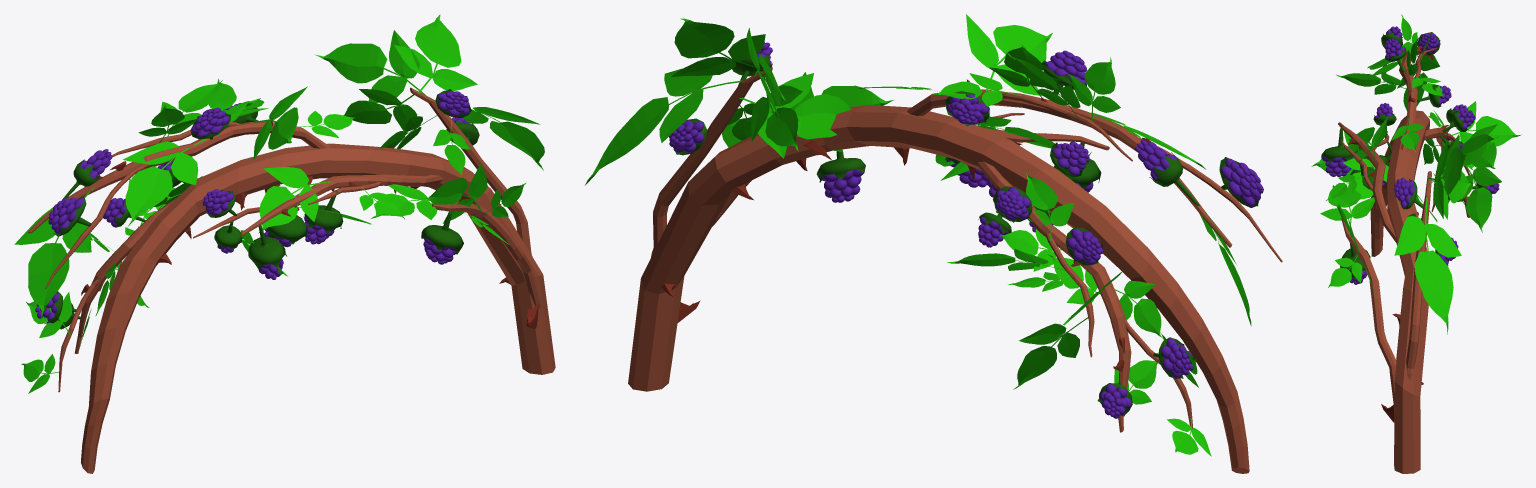
The model's file is Berry-Tunnel-1.fbx.
3 views of the same model, side by side, from view 1: azimuth 30°, elevation 25°; view 2: azimuth 150°, elevation 25°; view 3: azimuth 270°, elevation 25° (orthographic). The views are drawn at different scales.
Parts seen in each view (by area): view 1: Sphere.116, Sphere.145, Sphere.118, Sphere.191, Sphere.159, Sphere.187, Sphere.135, Sphere.117, Sphere.155, Sphere.138, Raspberry.002, Raspberry (+18 smaller); view 2: Sphere.116, Sphere.138, Sphere.135, Sphere.145, Sphere.163, Sphere.155, Sphere.167, Raspberry.002, Sphere.195, Sphere.171, Sphere.211, Sphere.161 (+11 smaller); view 3: Sphere.116, Sphere.163, Sphere.117, Sphere.135, Sphere.118, Sphere.162, Raspberry, Sphere.211, Sphere.145, Sphere.161, Sphere.155, Sphere.159 (+18 smaller).
Part boxes in pixels (left/top/right/bottom): Sphere.116: left=81, top=143, right=555, bottom=473; Sphere.145: left=27, top=121, right=330, bottom=233; Sphere.118: left=241, top=174, right=443, bottom=235; Sphere.191: left=28, top=243, right=69, bottom=319; Sphere.159: left=315, top=43, right=387, bottom=83; Sphere.187: left=125, top=166, right=172, bottom=227; Sphere.135: left=410, top=87, right=532, bottom=256; Sphere.117: left=432, top=202, right=540, bottom=308; Sphere.155: left=415, top=14, right=461, bottom=67; Sphere.138: left=74, top=193, right=181, bottom=353; Raspberry.002: left=421, top=211, right=463, bottom=264; Raspberry: left=248, top=225, right=287, bottom=279; Sphere.116: left=628, top=105, right=1249, bottom=473; Sphere.138: left=978, top=161, right=1131, bottom=432; Sphere.135: left=651, top=66, right=772, bottom=256; Sphere.145: left=907, top=89, right=1232, bottom=247; Sphere.163: left=585, top=97, right=668, bottom=185; Sphere.155: left=674, top=18, right=734, bottom=58; Sphere.167: left=795, top=94, right=851, bottom=139; Raspberry.002: left=816, top=149, right=865, bottom=202; Sphere.195: left=993, top=25, right=1052, bottom=62; Sphere.171: left=765, top=107, right=798, bottom=151; Sphere.211: left=1013, top=346, right=1056, bottom=389; Sphere.161: left=659, top=89, right=703, bottom=142; Sphere.116: left=1370, top=110, right=1429, bottom=473; Sphere.163: left=1414, top=250, right=1453, bottom=334; Sphere.117: left=1341, top=218, right=1396, bottom=407; Sphere.135: left=1406, top=171, right=1431, bottom=380; Sphere.118: left=1338, top=122, right=1397, bottom=243; Sphere.162: left=1394, top=216, right=1425, bottom=255; Raspberry: left=1321, top=128, right=1358, bottom=176; Sphere.211: left=1466, top=187, right=1492, bottom=232; Sphere.145: left=1399, top=48, right=1433, bottom=150; Sphere.161: left=1426, top=223, right=1461, bottom=257; Sphere.155: left=1444, top=147, right=1468, bottom=194; Sphere.159: left=1460, top=134, right=1499, bottom=165.
Bounding box in the file's own units: 1214 × 783 × 493.
